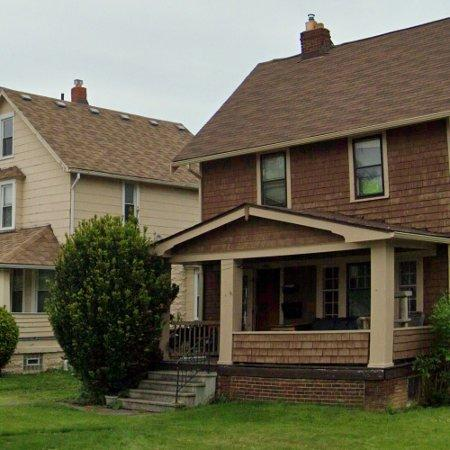chimneys: (301, 13, 334, 57), (71, 79, 88, 104)
